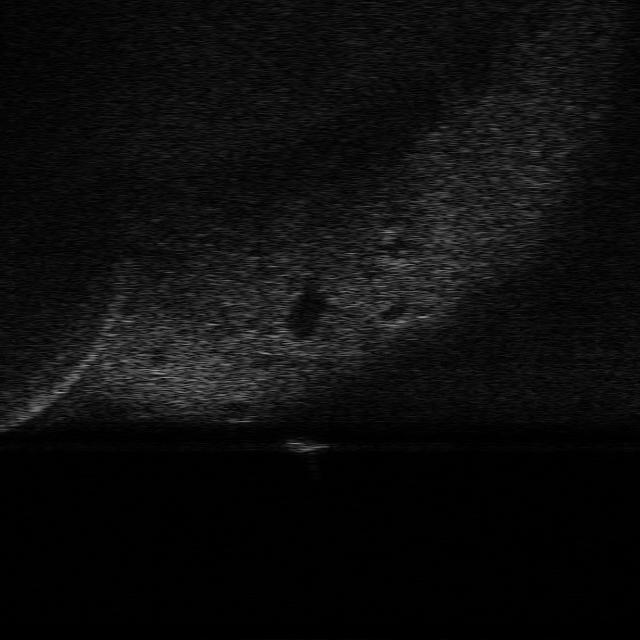cube: (281, 433, 331, 453)
